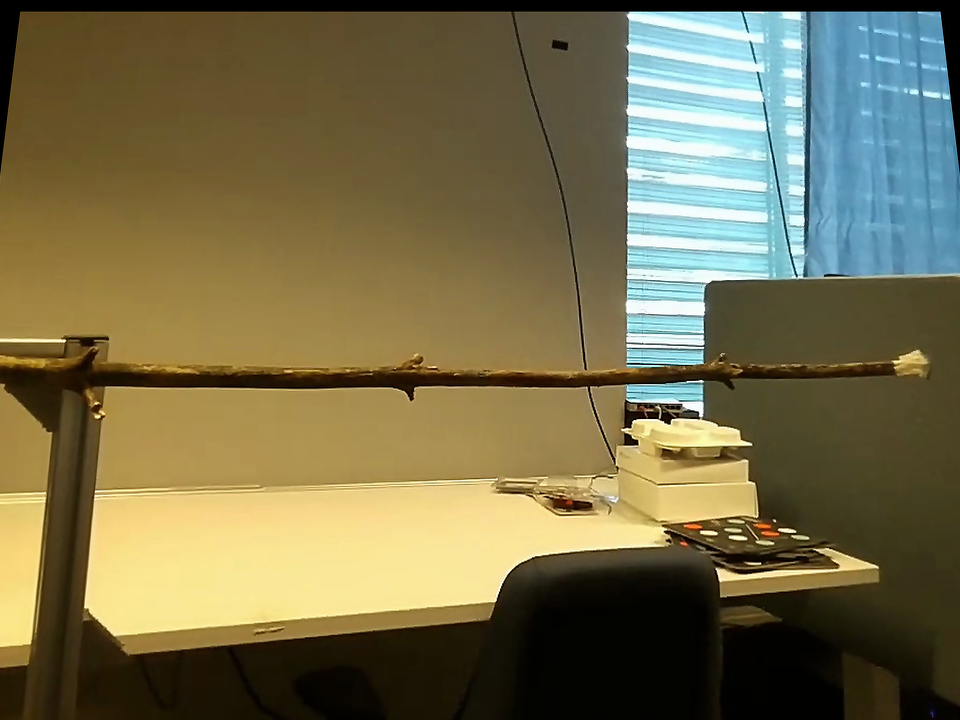branch: (121, 334, 890, 409)
